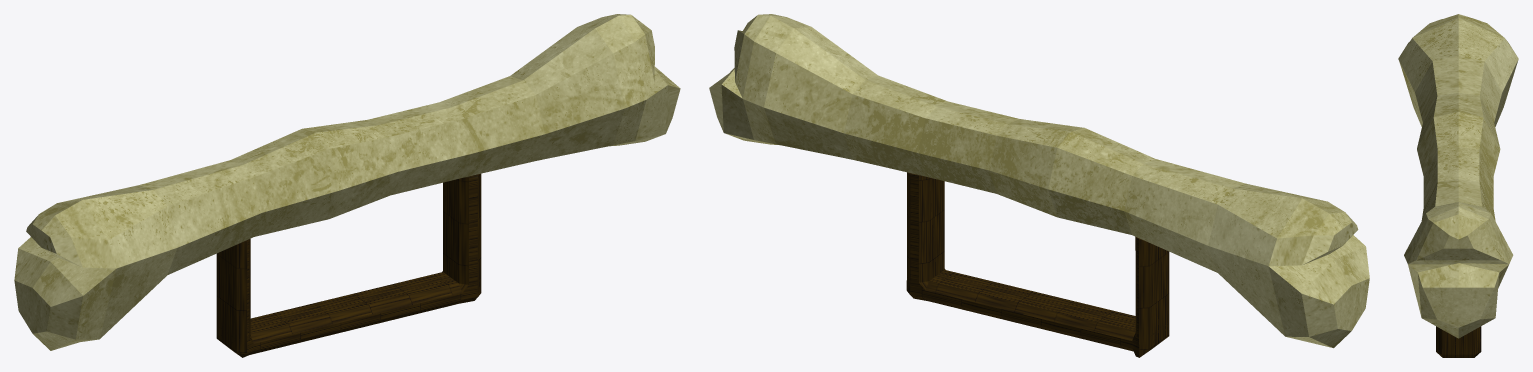
The model's file is Bone.fbx.
3 renders of one model, left to right at view 1: azimuth 30°, elevation 25°; view 2: azimuth 150°, elevation 25°; view 3: azimuth 270°, elevation 25°, orthographic. The views are drawn at different scales.
Visible parts, largest first — view 1: pCube29; view 2: pCube29; view 3: pCube29.
Boxes of the visible parts, x1=… form: pCube29: x1=14, y1=14, x2=680, y2=357; pCube29: x1=709, y1=14, x2=1369, y2=357; pCube29: x1=1398, y1=14, x2=1518, y2=357.
Size of the model in its own units: 544 by 200 by 99.82.
Materials: 1 (1 with a texture image).
